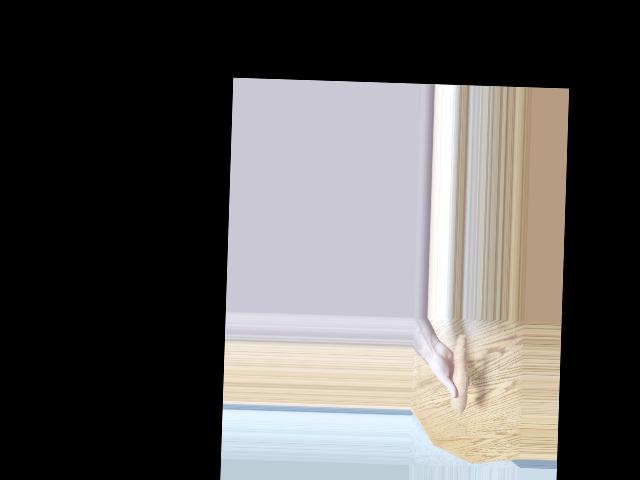sweet_potato: (447, 334, 471, 410)
